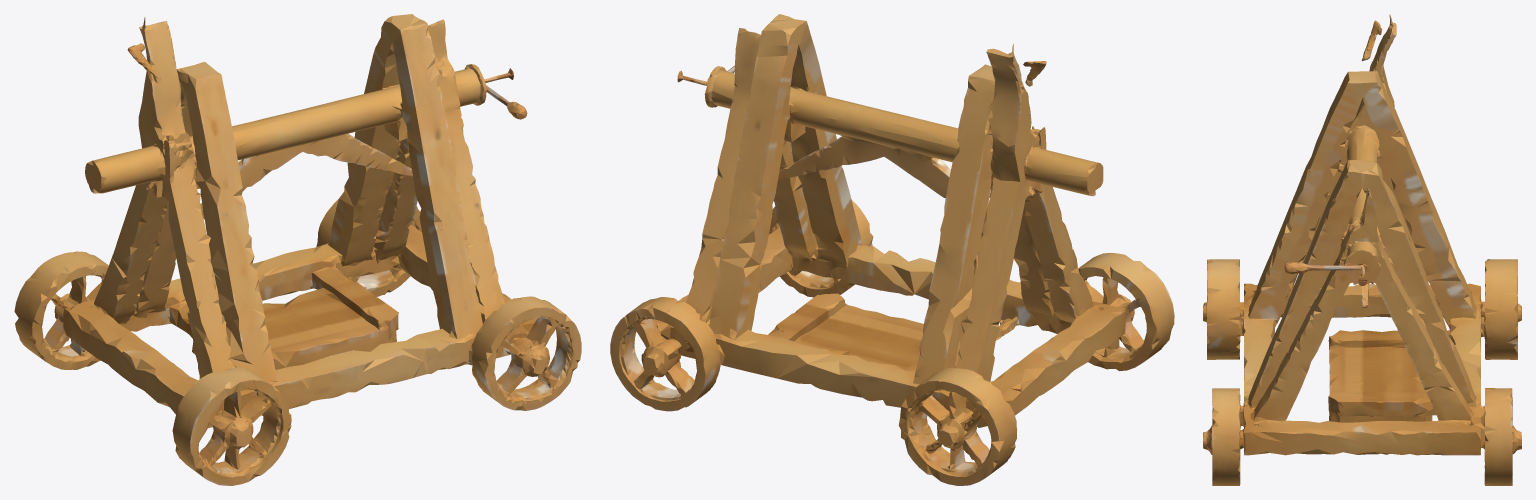
File: human_catapult.glb
The picture shows the model from 3 angles, left to right: view 1: azimuth 30°, elevation 25°; view 2: azimuth 150°, elevation 25°; view 3: azimuth 270°, elevation 25°; orthographic projection. The views are drawn at different scales.
Visible parts, largest first — view 1: human_catapult; view 2: human_catapult; view 3: human_catapult.
Part boxes in pixels (x1,y1,x2,y2): human_catapult: (14,14,581,485); human_catapult: (610,14,1174,485); human_catapult: (1203,14,1521,485).
Size of the model in its own units: 1.89 by 1.69 by 1.42.
1 material, 1 textured.
